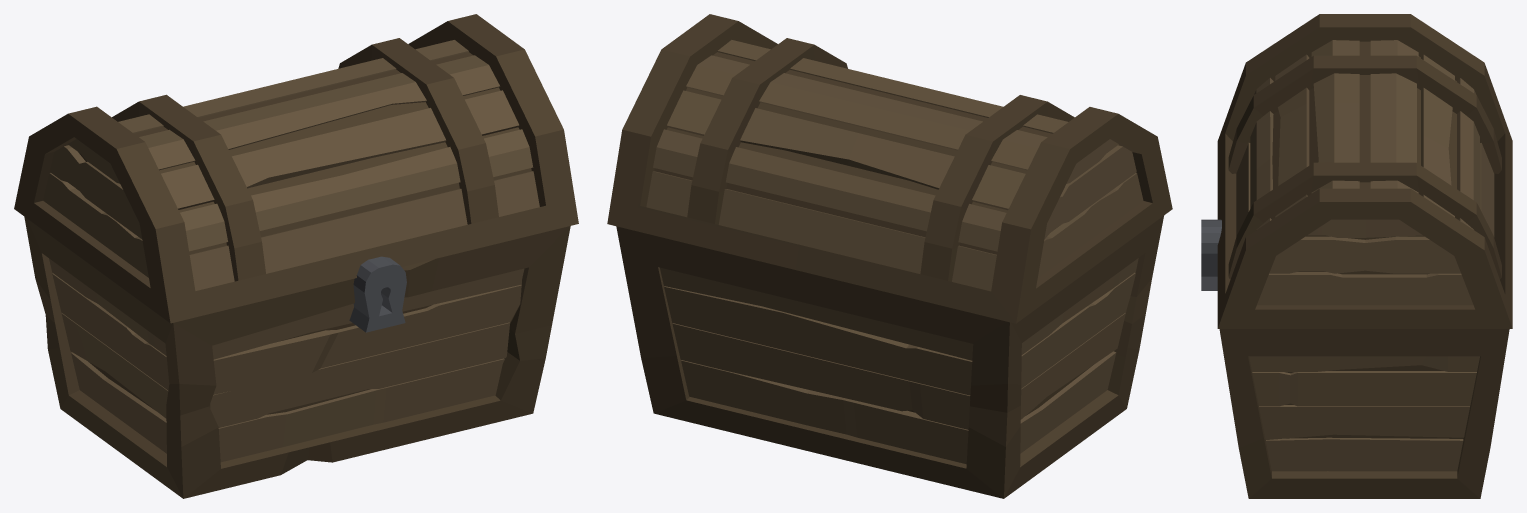
The model's file is Chest.glb.
The picture shows the model from 3 angles, left to right: view 1: azimuth 30°, elevation 25°; view 2: azimuth 150°, elevation 25°; view 3: azimuth 270°, elevation 25°; orthographic projection. The views are drawn at different scales.
Parts seen in each view (by area): view 1: Wood, DarkWood, Metal; view 2: Wood, DarkWood; view 3: DarkWood, Wood, Metal.
Part boxes in pixels (<box>): Wood: <box>43,40,539,462</box>; DarkWood: <box>14,14,578,498</box>; Metal: <box>349,256,406,332</box>; Wood: <box>646,40,1143,464</box>; DarkWood: <box>607,14,1172,498</box>; DarkWood: <box>1217,14,1512,498</box>; Wood: <box>1236,40,1494,471</box>; Metal: <box>1201,219,1221,290</box>.
Size of the model in its own units: 1.18 by 0.9093 by 0.8264.
